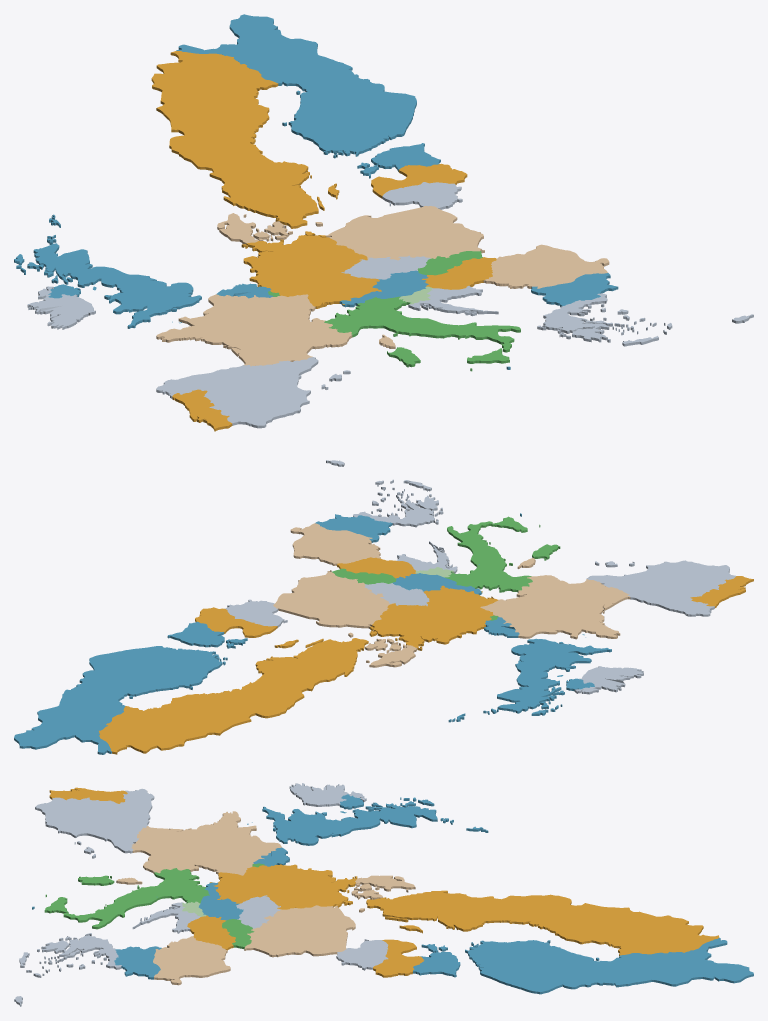
File: EUMap.dae
3 views of the same model, one above another, from view 1: azimuth 30°, elevation 25°; view 2: azimuth 150°, elevation 25°; view 3: azimuth 270°, elevation 25° (orthographic). The views are drawn at different scales.
Parts seen in each view (by area): view 1: SE, FI, FR, DE, ES, UK, PL, IT, RO, EL, BG, IE (+10 smaller); view 2: SE, FI, FR, DE, ES, UK, PL, IT, RO, EL, LV, IE (+10 smaller); view 3: SE, FI, FR, DE, ES, UK, PL, IT, RO, EL, LV, BG (+11 smaller).
Part boxes in pixels (<box>): SE: <box>151,51,339,228</box>; FI: <box>176,14,416,158</box>; FR: <box>156,294,395,366</box>; DE: <box>241,231,381,308</box>; ES: <box>156,357,350,428</box>; UK: <box>14,214,201,328</box>; PL: <box>325,206,484,260</box>; IT: <box>324,296,520,371</box>; RO: <box>483,244,609,288</box>; EL: <box>537,293,672,346</box>; BG: <box>531,273,618,306</box>; IE: <box>27,286,95,329</box>; SE: <box>99,638,368,754</box>; FI: <box>14,646,227,754</box>; FR: <box>480,558,630,639</box>; DE: <box>369,585,497,650</box>; ES: <box>586,560,735,616</box>; UK: <box>448,638,611,722</box>; PL: <box>273,570,393,628</box>; IT: <box>445,516,560,592</box>; RO: <box>290,523,380,565</box>; EL: <box>353,479,443,527</box>; LV: <box>195,607,277,637</box>; IE: <box>574,666,643,694</box>; SE: <box>366,890,719,955</box>; FI: <box>465,938,753,994</box>; FR: <box>116,811,281,884</box>; DE: <box>213,864,357,909</box>; ES: <box>35,788,154,858</box>; UK: <box>262,794,488,845</box>; PL: <box>244,905,355,957</box>; IT: <box>44,868,209,929</box>; RO: <box>153,936,230,985</box>; EL: <box>19,933,121,977</box>; LV: <box>373,939,424,977</box>; BG: <box>114,946,161,979</box>.
Size of the model in its own units: 10.77 by 15.2 by 0.0984.
